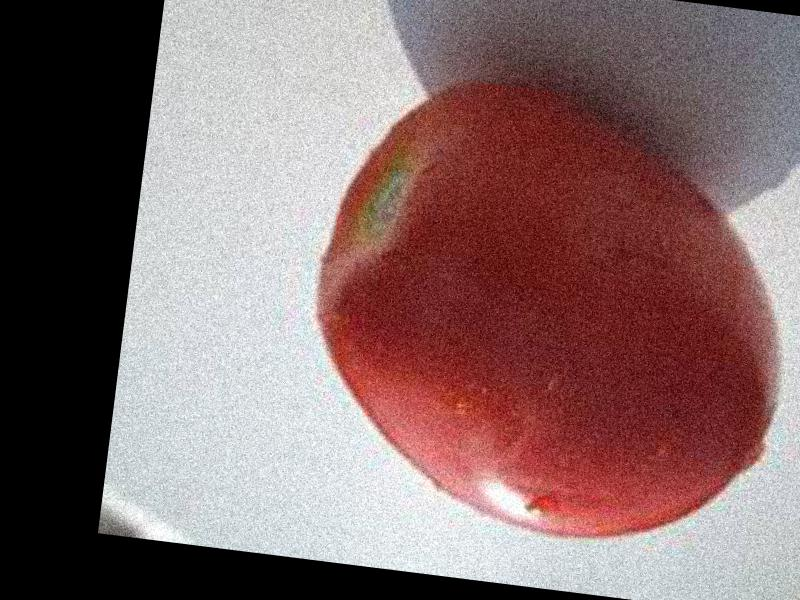Tomato: (291, 65, 800, 561)
